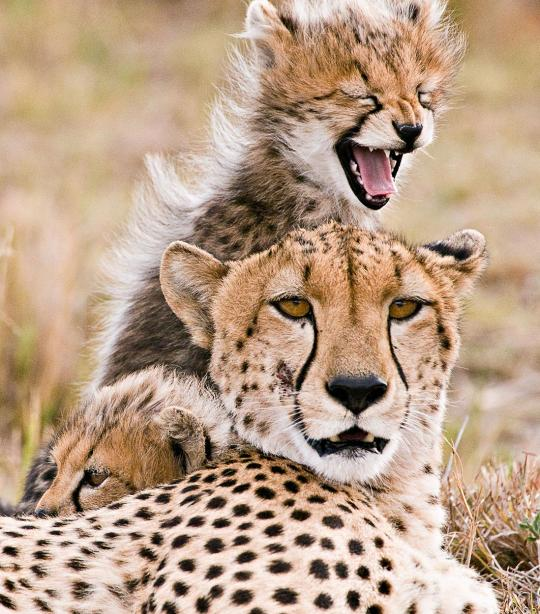cheetah: (140, 220, 491, 490)
